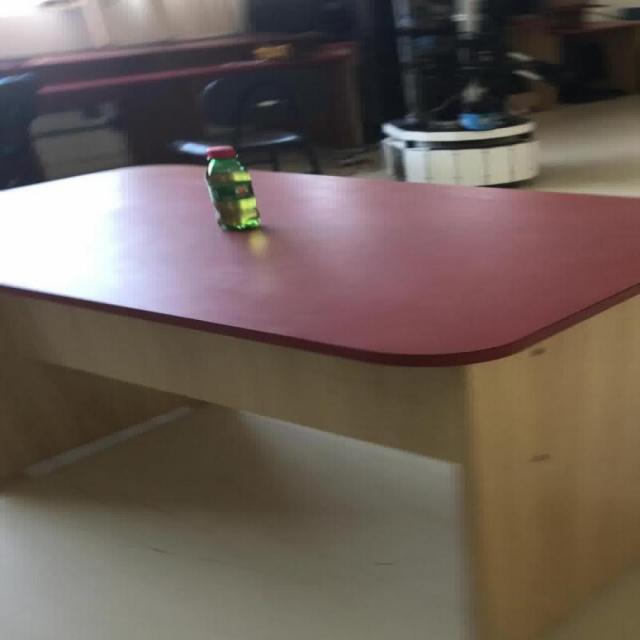Guarana: (202, 144, 261, 231)
